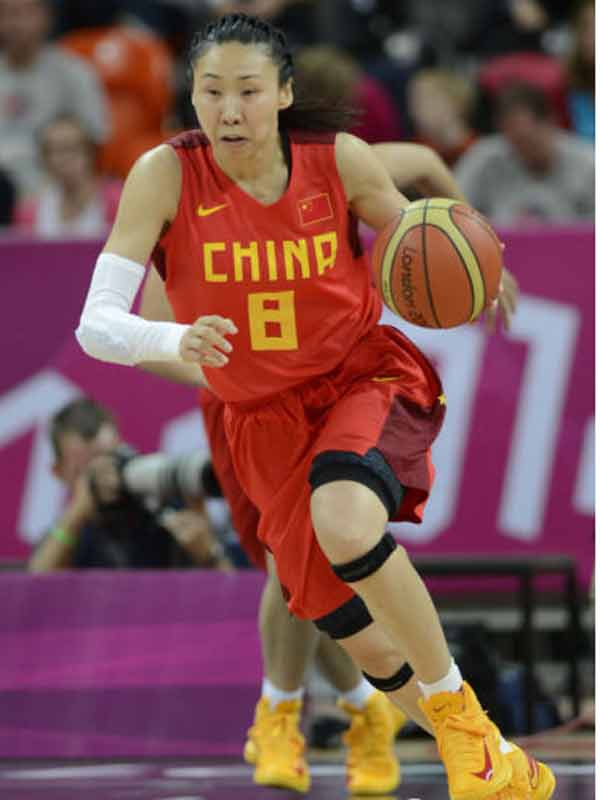ball: (369, 197, 504, 331)
